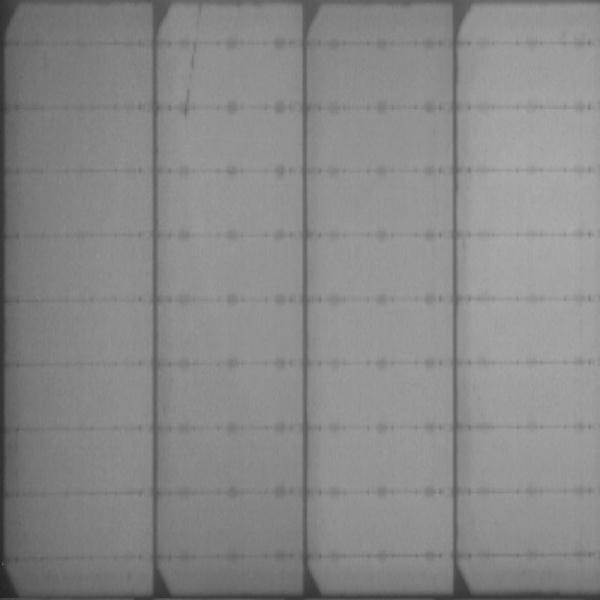scratch: (184, 1, 202, 120)
